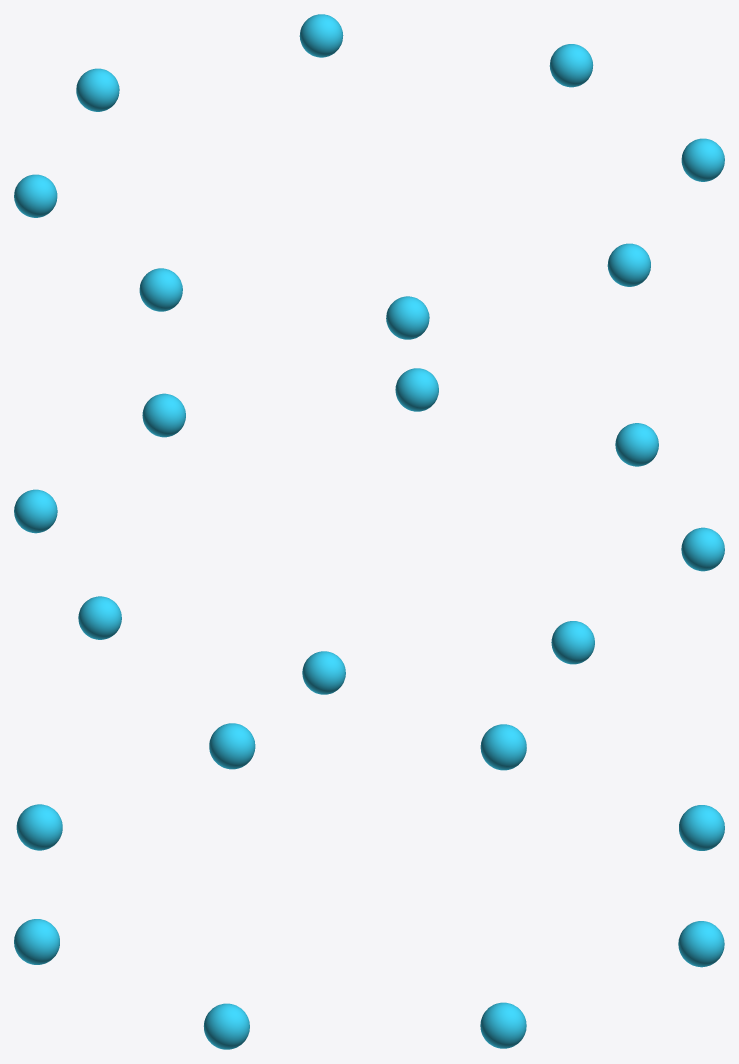
3 renders of one model, top to bottom at view 1: azimuth 30°, elevation 25°; view 2: azimuth 150°, elevation 25°; view 3: azimuth 270°, elevation 25°, orthographic. The views are drawn at different scales.
Parts seen in each view (by area): view 1: Sphere048; view 2: Sphere048; view 3: Sphere048.
Boxes of the visible parts, <box> form: Sphere048: <box>14,14,724,339</box>; Sphere048: <box>14,368,724,694</box>; Sphere048: <box>14,723,724,1049</box>.
Size of the model in its own units: 126 by 8.22 by 126.
